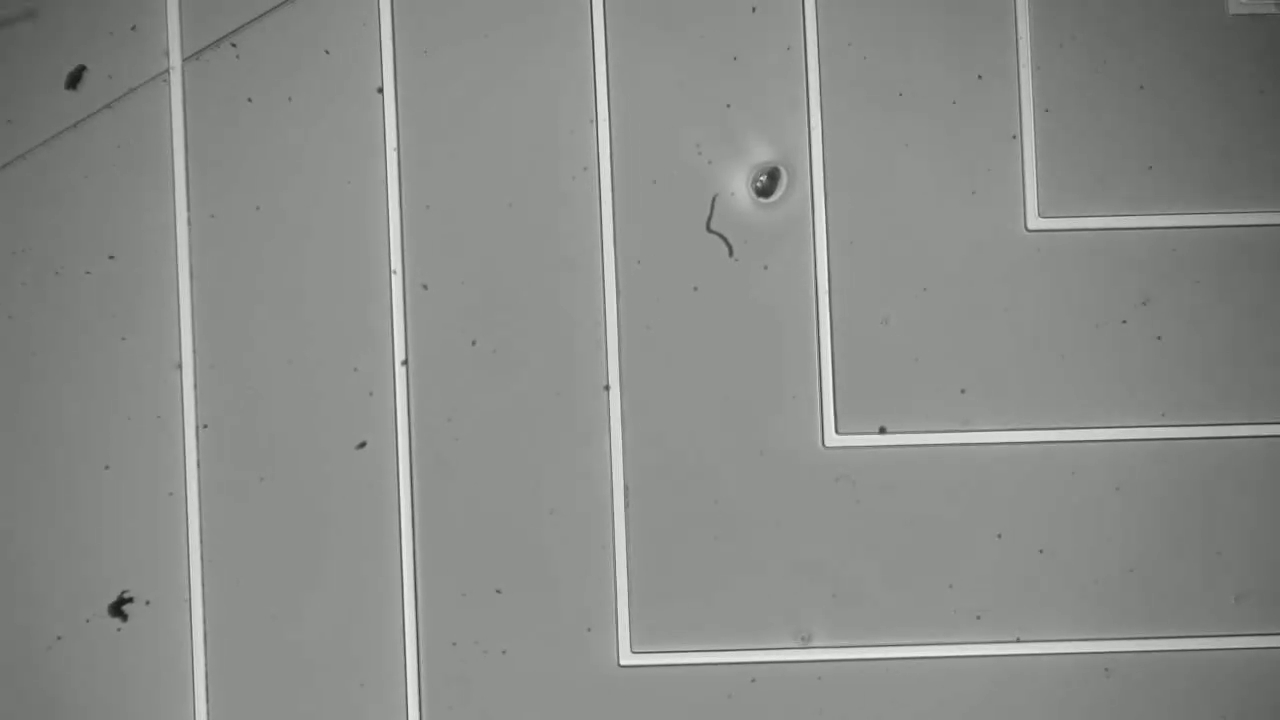scratch: (11, 1, 298, 179)
